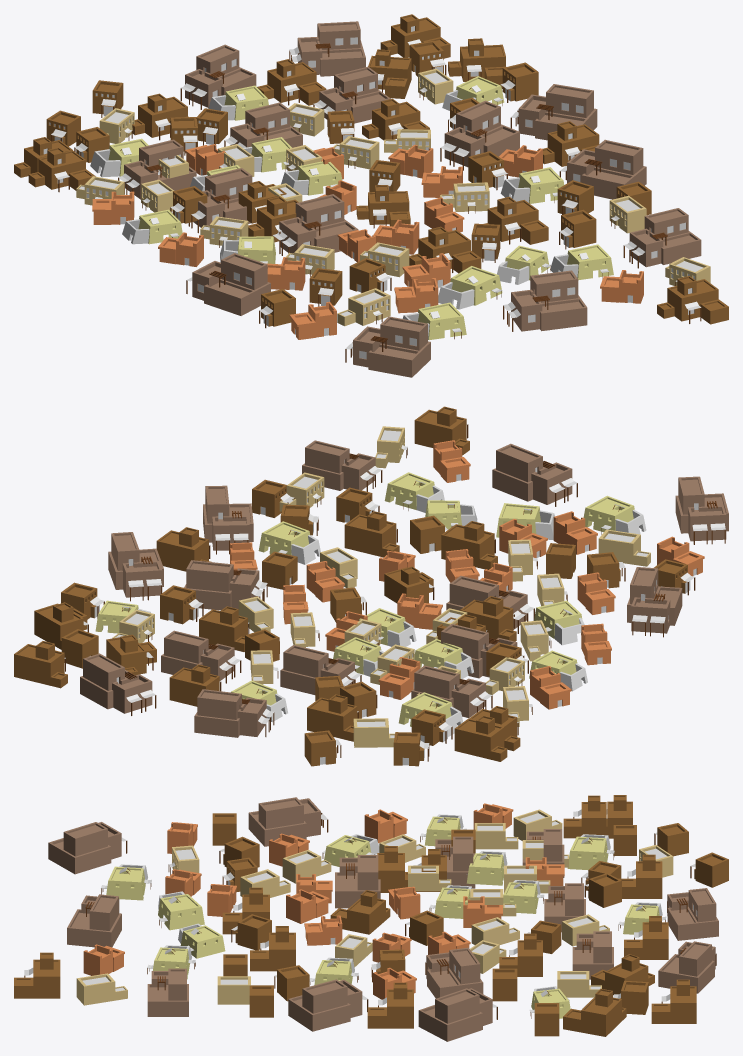
Rendered from casas1.fbx.
3 renders of one model, top to bottom at view 1: azimuth 30°, elevation 25°; view 2: azimuth 150°, elevation 25°; view 3: azimuth 270°, elevation 25°, orthographic. The views are drawn at different scales.
Parts seen in each view (by area): view 1: Cube.262, Cube.212, Cube.277, Cube.252, Cube.317, Cube.257, Cube.222, Cube.302, Cube.327, Cube.202, Cube.207, Cube.208 (+78 smaller); view 2: Cube.262, Cube.202, Cube.327, Cube.317, Cube.257, Cube.277, Cube.212, Cube.222, Cube.207, Cube.252, Cube.267, Cube.232 (+79 smaller); view 3: Cube.252, Cube.257, Cube.212, Cube.277, Cube.262, Cube.202, Cube.317, Cube.327, Cube.302, Cube.223, Cube.222, Cube.208 (+82 smaller).
Boxes of the visible parts, <box> form: Cube.262: <box>503,270,587,331</box>; Cube.212: <box>345,316,430,377</box>; Cube.277: <box>186,253,270,315</box>; Cube.252: <box>559,139,646,199</box>; Cube.317: <box>440,100,519,170</box>; Cube.257: <box>510,84,597,140</box>; Cube.222: <box>623,208,701,268</box>; Cube.302: <box>272,194,358,255</box>; Cube.327: <box>289,21,365,76</box>; Cube.202: <box>180,44,256,109</box>; Cube.207: <box>313,66,390,126</box>; Cube.208: <box>657,276,728,324</box>; Cube.262: <box>492,443,577,506</box>; Cube.202: <box>194,689,274,737</box>; Cube.327: <box>80,653,156,715</box>; Cube.317: <box>184,560,267,610</box>; Cube.257: <box>108,532,163,601</box>; Cube.277: <box>627,567,682,637</box>; Cube.212: <box>675,476,728,544</box>; Cube.222: <box>302,440,382,491</box>; Cube.207: <box>161,630,241,683</box>; Cube.252: <box>203,485,253,554</box>; Cube.267: <box>280,645,361,694</box>; Cube.232: <box>411,665,492,717</box>; Cube.252: <box>288,979,368,1031</box>; Cube.257: <box>418,988,497,1041</box>; Cube.212: <box>48,822,127,874</box>; Cube.277: <box>248,797,328,846</box>; Cube.262: <box>67,894,121,947</box>; Cube.202: <box>667,888,718,940</box>; Cube.317: <box>425,947,483,998</box>; Cube.327: <box>658,941,716,993</box>; Cube.302: <box>335,855,380,908</box>; Cube.223: <box>563,988,626,1036</box>; Cube.222: <box>147,968,188,1016</box>; Cube.208: <box>14,952,60,998</box>.
Size of the model in its own units: 29181 by 2348 by 39390.
